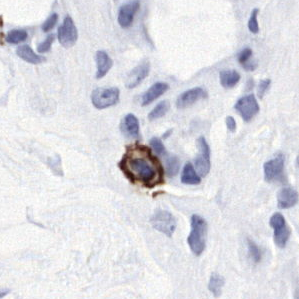Lymphocyte: (119, 144, 166, 190)
